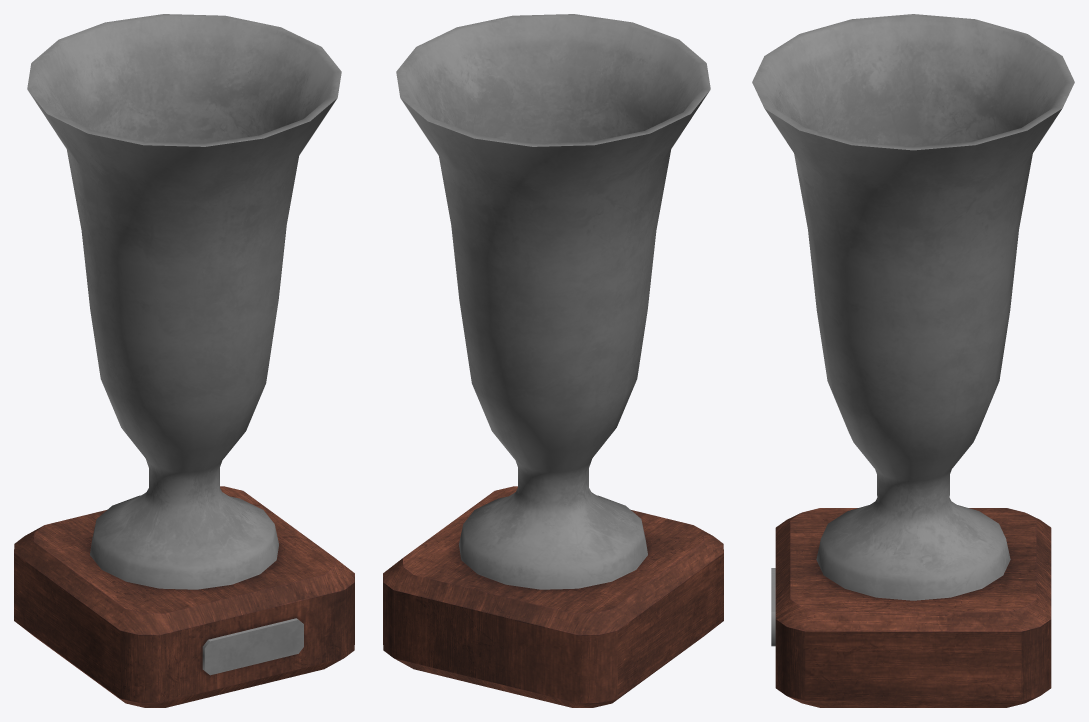
The model's file is Goblet.FBX.
3 renders of one model, left to right at view 1: azimuth 30°, elevation 25°; view 2: azimuth 150°, elevation 25°; view 3: azimuth 270°, elevation 25°, orthographic.
Parts seen in each view (by area): view 1: Goblet_LOD0; view 2: Goblet_LOD0; view 3: Goblet_LOD0.
Part boxes in pixels (x1,y1,x2,y2): Goblet_LOD0: (14, 14, 354, 707); Goblet_LOD0: (383, 14, 723, 707); Goblet_LOD0: (752, 14, 1074, 707).
Size of what is drawn, in the model's own units: 15.22 by 29.85 by 15.22.
